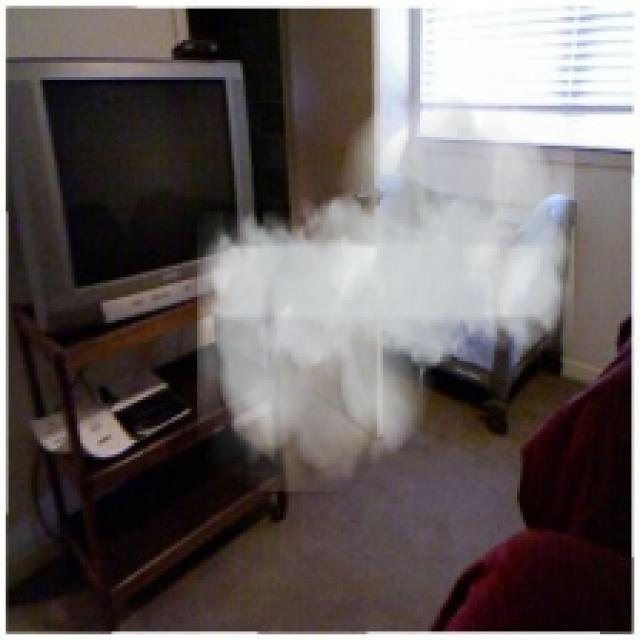smoke: (197, 71, 574, 492)
